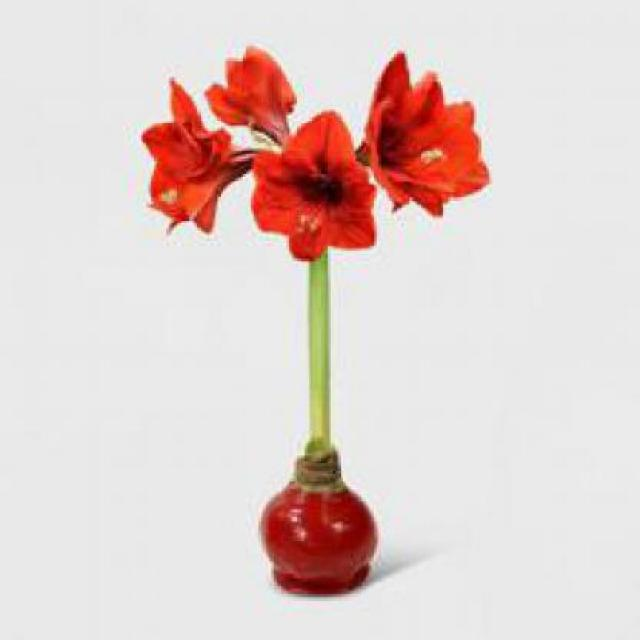Flower: (369, 52, 489, 218), (249, 110, 376, 264), (141, 79, 241, 236), (208, 44, 297, 130)
